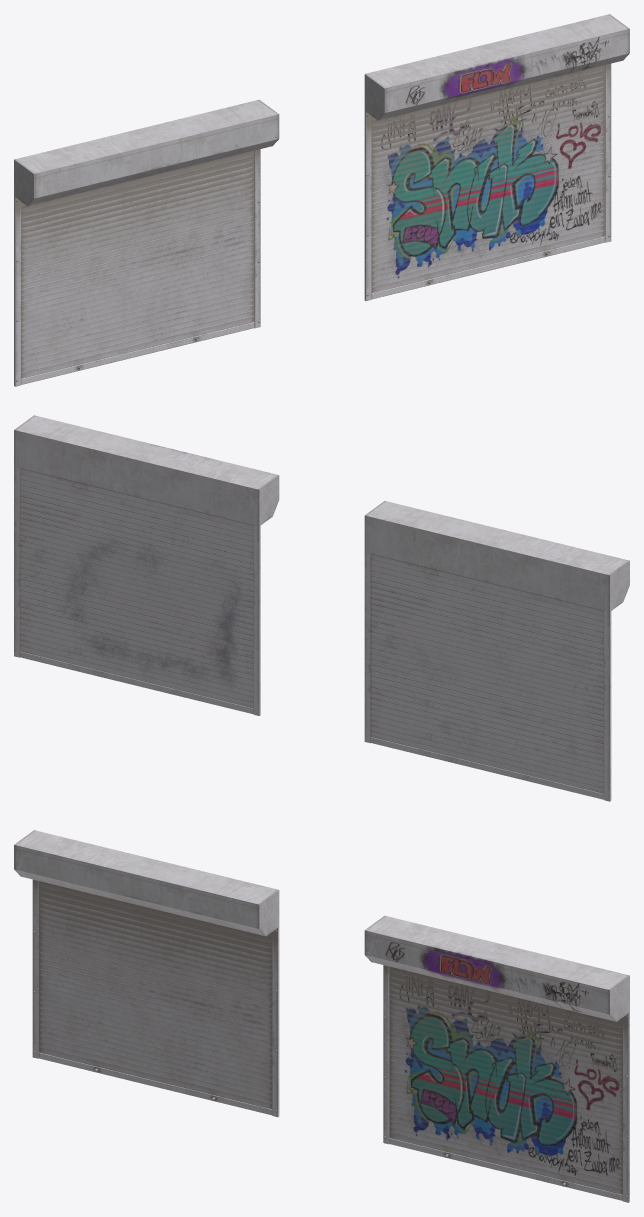
The model's file is rollershutter_window_01_1k.fbx.
The picture shows the model from 3 angles, top to bottom: view 1: azimuth 30°, elevation 25°; view 2: azimuth 150°, elevation 25°; view 3: azimuth 330°, elevation 25°; orthographic projection.
Parts seen in each view (by area): view 1: rollershutter_window_01_graffiti, rollershutter_window_01; view 2: rollershutter_window_01, rollershutter_window_01_graffiti; view 3: rollershutter_window_01, rollershutter_window_01_graffiti.
Part boxes in pixels (left/top/right/bottom): rollershutter_window_01_graffiti: left=364, top=14, right=629, bottom=301; rollershutter_window_01: left=14, top=99, right=279, bottom=386; rollershutter_window_01: left=364, top=501, right=629, bottom=801; rollershutter_window_01_graffiti: left=14, top=415, right=279, bottom=715; rollershutter_window_01: left=14, top=830, right=279, bottom=1117; rollershutter_window_01_graffiti: left=364, top=915, right=629, bottom=1202.
Size of the model in its own units: 510 by 185 by 30.01.
2 materials, 2 textured.
